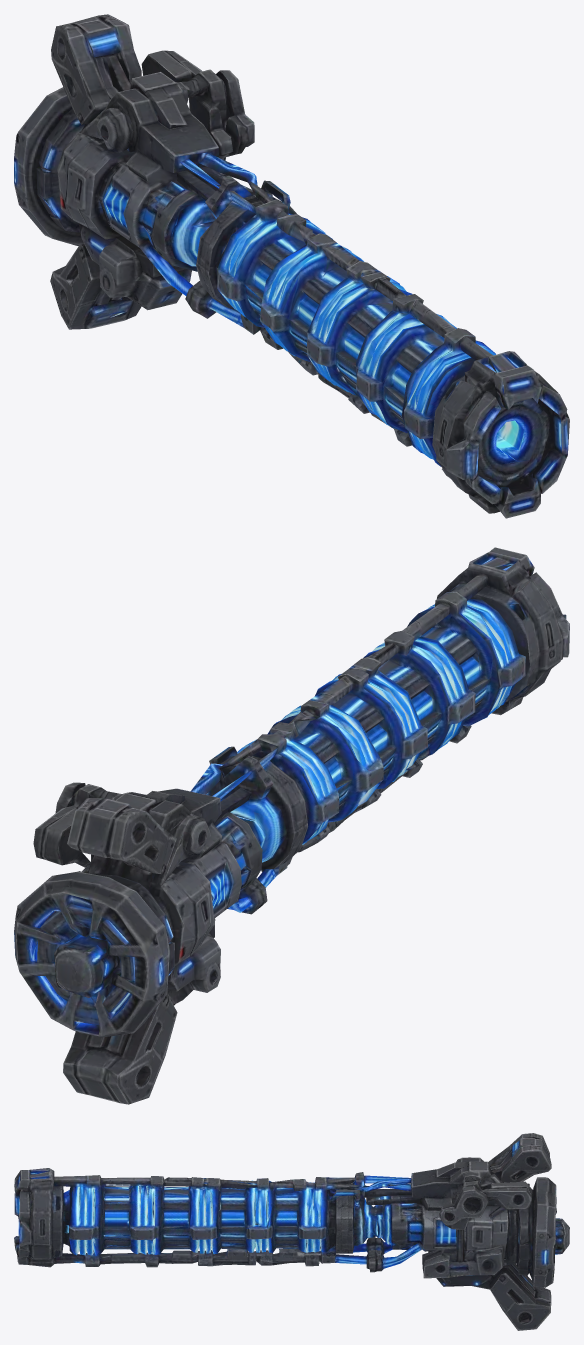
Rendered from laser-ion.glb.
The picture shows the model from 3 angles, top to bottom: view 1: azimuth 30°, elevation 25°; view 2: azimuth 150°, elevation 25°; view 3: azimuth 270°, elevation 25°; orthographic projection. The views are drawn at different scales.
Parts seen in each view (by area): view 1: laser-ion; view 2: laser-ion; view 3: laser-ion.
Boxes of the visible parts, bbox=[...] form: laser-ion: bbox=[14, 14, 569, 518]; laser-ion: bbox=[14, 547, 569, 1104]; laser-ion: bbox=[14, 1133, 569, 1330].
Bounding box in the file's own units: 2.72 × 4.9 × 13.6.
Materials: 1 (1 with a texture image).
